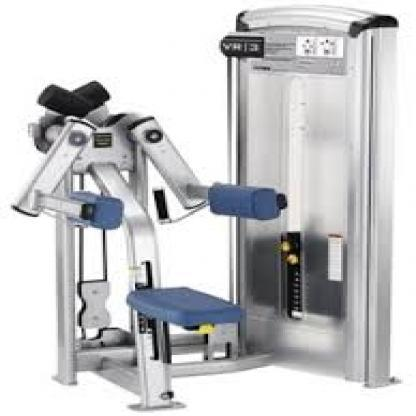lateral raises machine: (11, 7, 404, 413)
